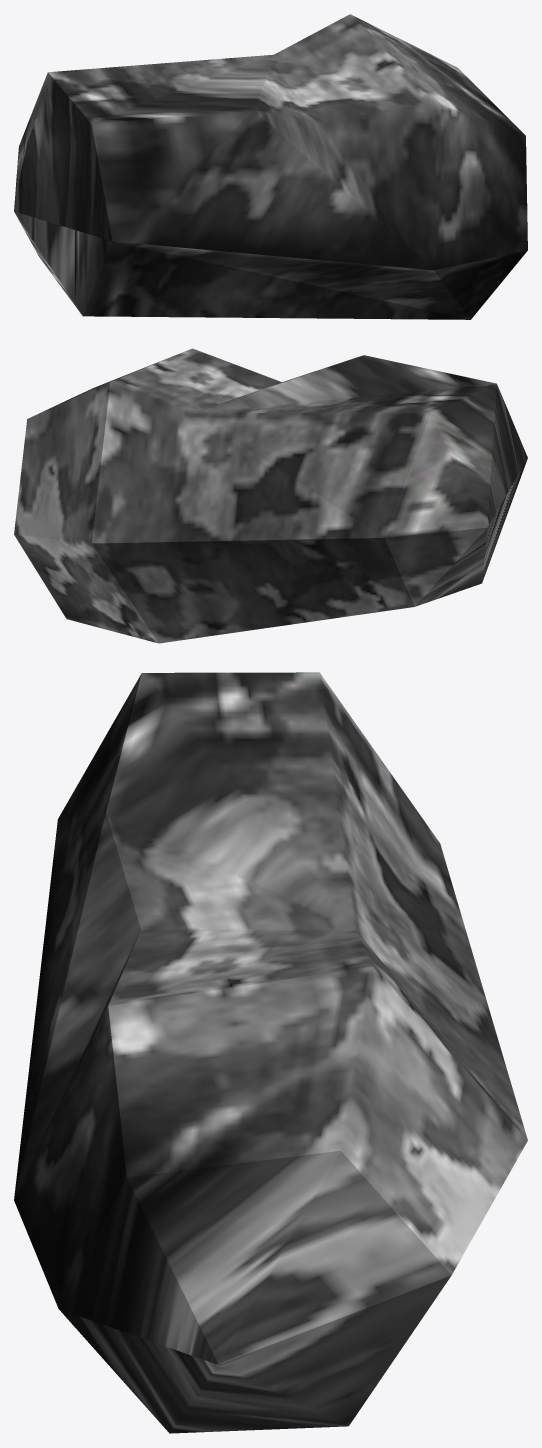
Rendered from R_Arm_uppe.obj.
The picture shows the model from 3 angles, top to bottom: view 1: azimuth 30°, elevation 25°; view 2: azimuth 150°, elevation 25°; view 3: azimuth 270°, elevation 25°; orthographic projection. The views are drawn at different scales.
Parts seen in each view (by area): view 1: R_Arm_uppe; view 2: R_Arm_uppe; view 3: R_Arm_uppe.
Part boxes in pixels (<box>): R_Arm_uppe: <box>14,14,527,319</box>; R_Arm_uppe: <box>14,348,527,643</box>; R_Arm_uppe: <box>14,672,527,1433</box>.
Bounding box in the file's own units: 0.771 × 0.4616 × 0.4526.
